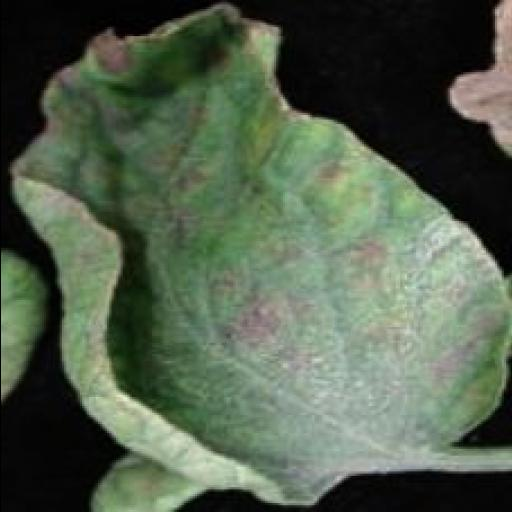disease_tomato: (5, 0, 512, 505)
